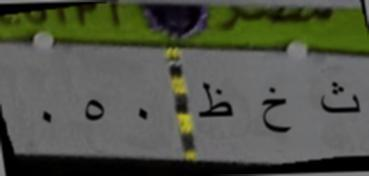0: (128, 95, 158, 127), (34, 100, 59, 134)
5: (79, 87, 110, 136)
Thaa: (193, 73, 236, 134)
khaa: (256, 83, 296, 142)
thaa: (314, 72, 365, 122)
